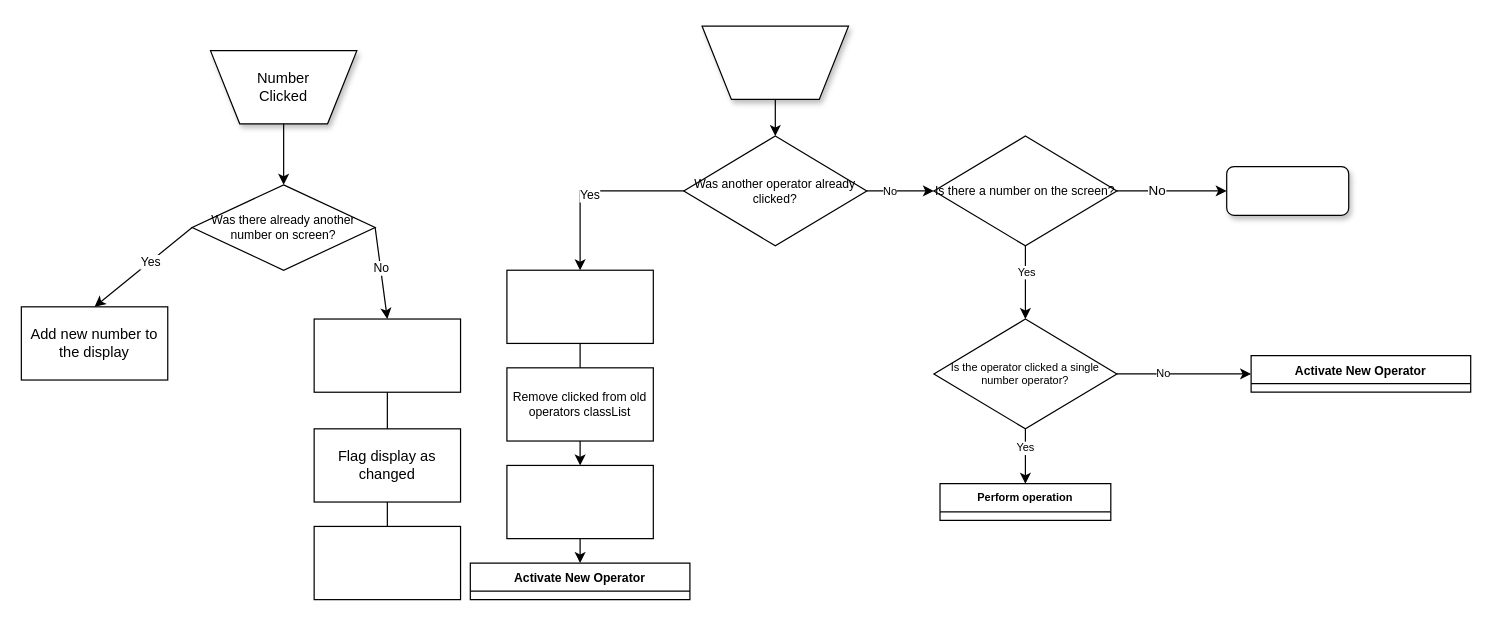
This 1492x621 diagram has some shape labels left out. Each missing label, with the centre of its shape:
Change display to new number: the point at 387,355
Change to new operator: the point at 579,306
Display ERROR: the point at 1288,192
Operator Clicked: the point at 776,64
Put number in toCalc array: the point at 387,562
Remove current from old operators classList: the point at 579,501
